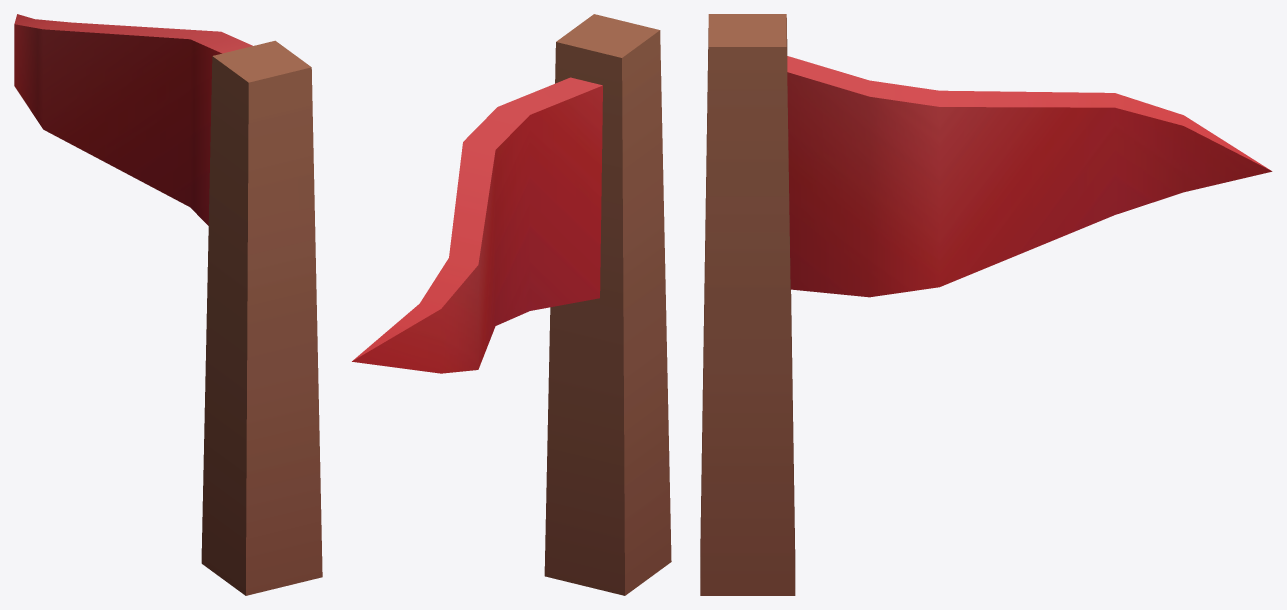
Rendered from flag-red.glb.
3 renders of one model, left to right at view 1: azimuth 30°, elevation 25°; view 2: azimuth 150°, elevation 25°; view 3: azimuth 270°, elevation 25°, orthographic. The views are drawn at different scales.
Visible parts, largest first — view 1: flag_red; view 2: flag_red; view 3: flag_red.
Boxes of the visible parts, <box> form: flag_red: <box>14,14,322,595</box>; flag_red: <box>352,14,671,595</box>; flag_red: <box>700,14,1272,595</box>.
Size of the model in its own units: 0.055 by 0.2775 by 0.264.
1 material, 1 textured.
